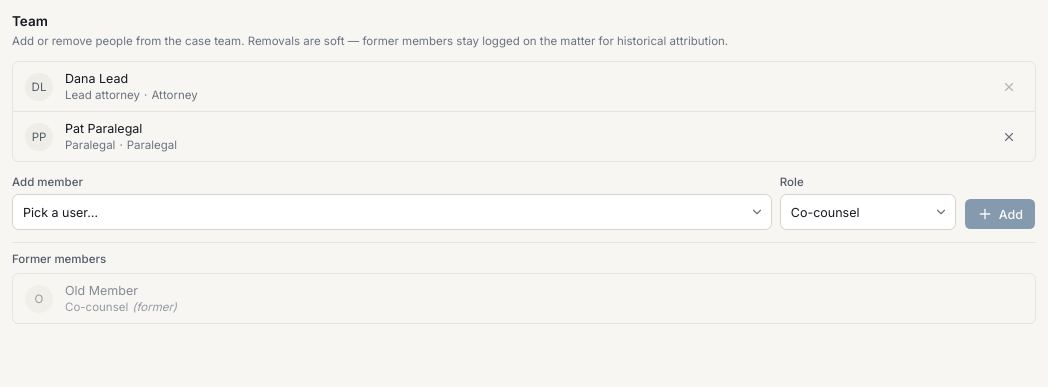
Test: MatterTeamManagement › a thrown add error becomes a banner instead of escaping to the error boundary
The width and height of the screenshot is (1048, 387).
Step 1. Select "Nia New · Associate" in the dropdown labelled "Add member" → x=392, y=212, box [12, 194, 772, 230]
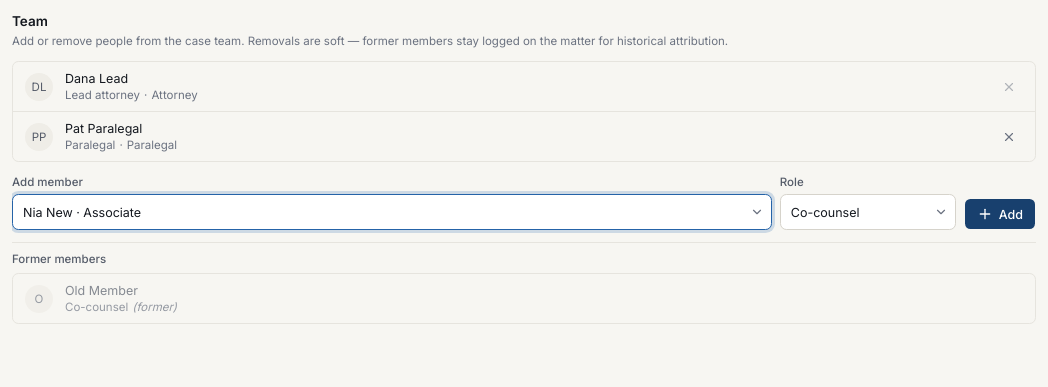
Step 2. Click the button "Add" → x=1000, y=214, box [964, 198, 1036, 230]
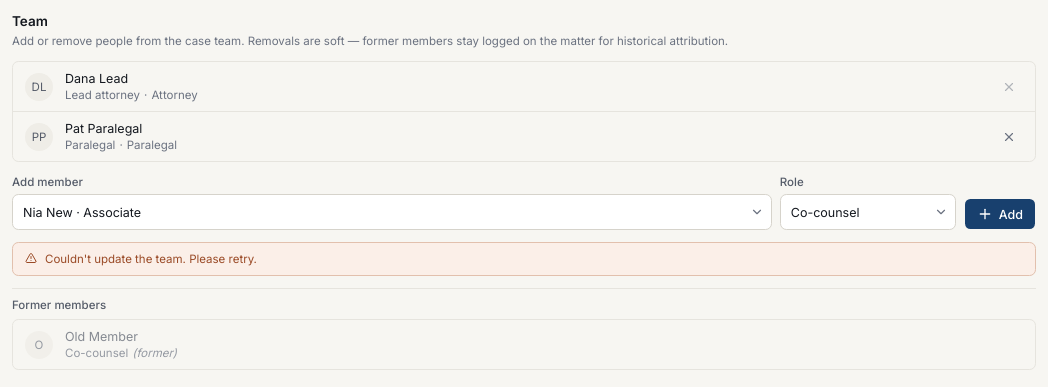
Expected: the button "Add" is enabled, [964, 198, 1036, 230]
Expected: the text "Couldn't update the team. Please retry." is shown, [45, 251, 257, 267]
